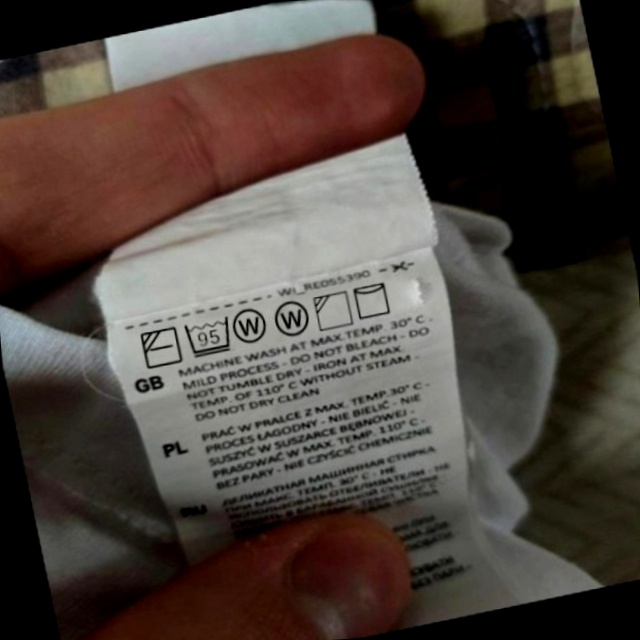95C: (181, 312, 237, 360)
dry_flat_in_shade: (137, 322, 185, 372)
line_dry: (349, 277, 396, 323)
shade_dry: (310, 287, 356, 334)
wet_clean: (229, 301, 273, 348), (270, 296, 314, 342)
